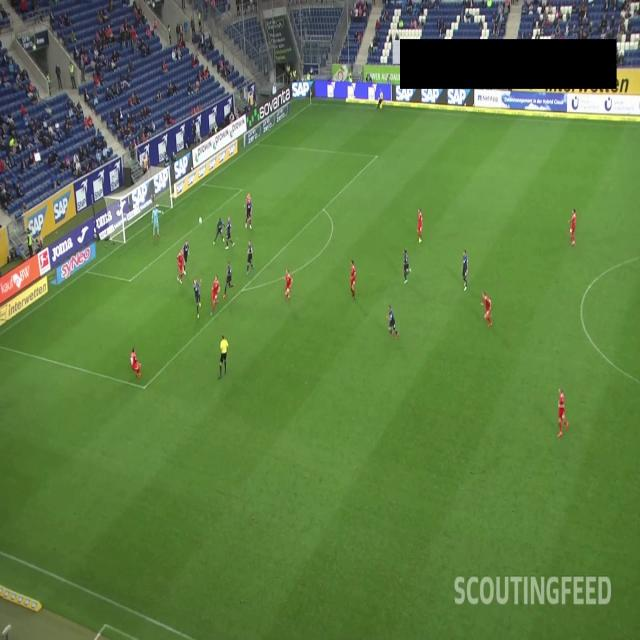ball: (198, 213, 203, 227)
player: (220, 259, 237, 297), (191, 273, 204, 320), (480, 288, 494, 331), (557, 390, 568, 439), (384, 304, 398, 342), (151, 202, 163, 244), (131, 343, 143, 382), (460, 250, 470, 294), (281, 268, 293, 303), (215, 212, 227, 245), (350, 258, 360, 296), (245, 238, 253, 280), (226, 215, 236, 248), (402, 250, 410, 291), (569, 208, 577, 249), (211, 276, 219, 314), (177, 247, 185, 282), (183, 240, 190, 276), (417, 208, 423, 248), (246, 196, 252, 228), (246, 193, 251, 227)
